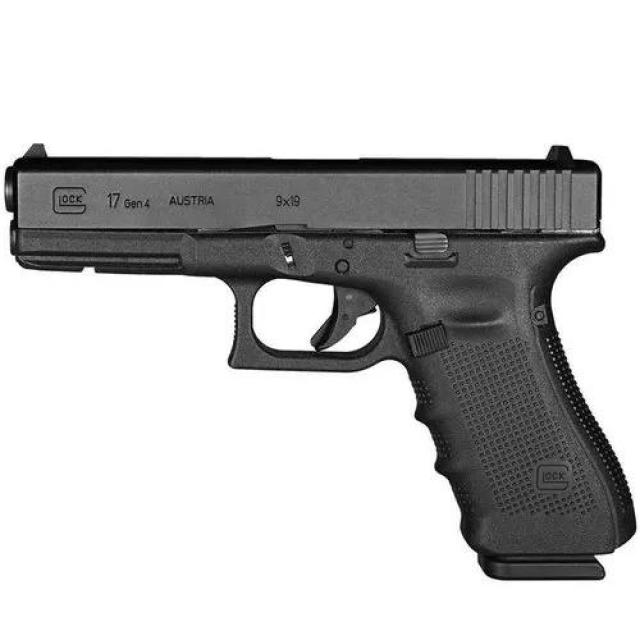gun: (5, 143, 639, 584)
